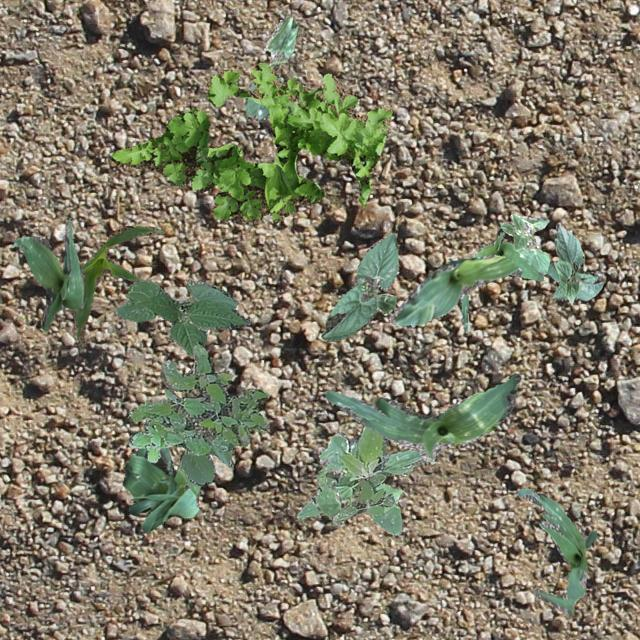crop: (324, 372, 520, 460), (296, 424, 424, 534), (73, 225, 163, 346), (113, 278, 250, 356), (516, 488, 596, 616), (461, 230, 558, 332), (388, 253, 520, 324), (122, 416, 200, 530), (320, 232, 398, 341), (12, 218, 82, 330), (244, 15, 298, 120), (180, 388, 232, 484), (550, 222, 602, 304), (312, 482, 402, 524), (499, 212, 548, 274)
weed: (110, 62, 392, 225), (128, 339, 268, 462), (331, 470, 394, 520)
